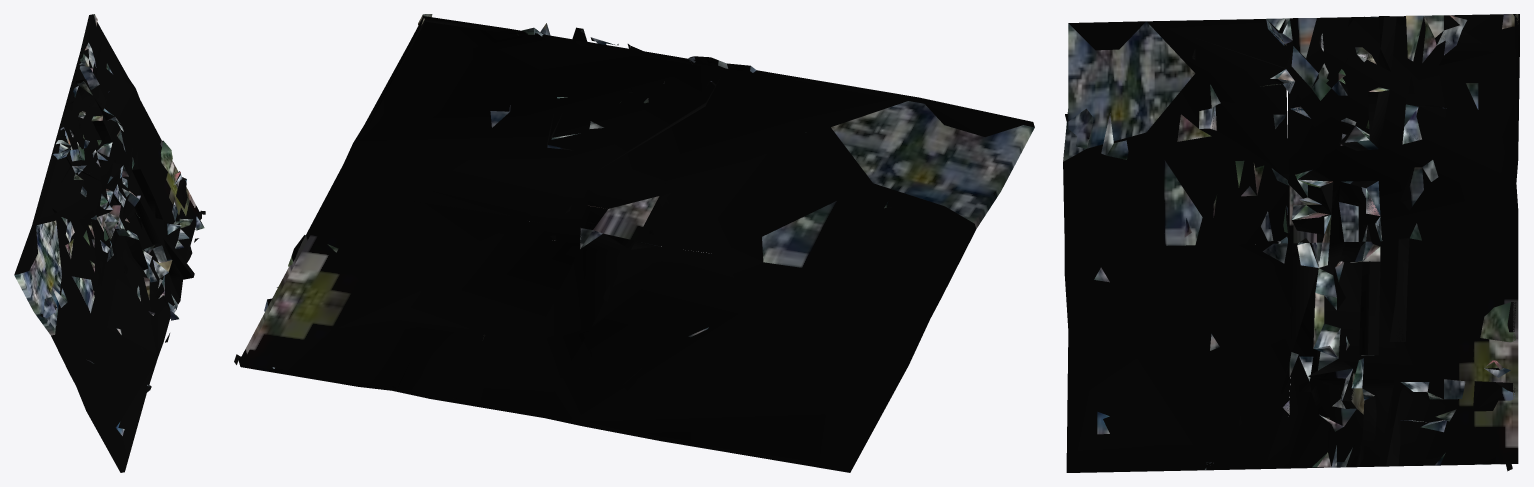
3 renders of one model, left to right at view 1: azimuth 30°, elevation 25°; view 2: azimuth 150°, elevation 25°; view 3: azimuth 270°, elevation 25°, orthographic. The views are drawn at different scales.
Visible parts, largest first — view 1: node_304362727043707_mesh0; view 2: node_304362727043707_mesh0; view 3: node_304362727043707_mesh0.
Boxes of the visible parts, x1,y1,x2,y2 form: node_304362727043707_mesh0: [14, 14, 205, 472]; node_304362727043707_mesh0: [234, 14, 1034, 472]; node_304362727043707_mesh0: [1063, 14, 1519, 472].
Size of the model in its own units: 1188 by 1169 by 886.
Materials: 1 (1 with a texture image).
